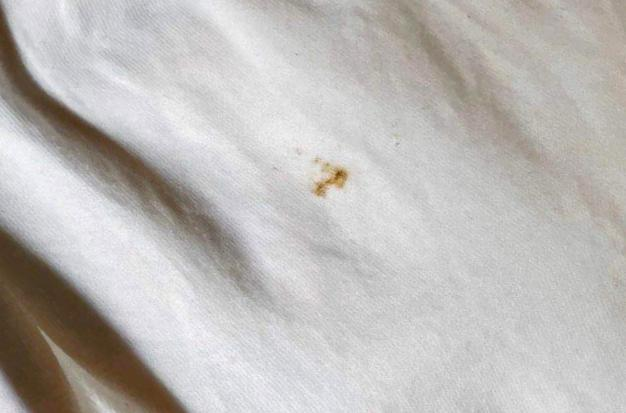snag: (310, 156, 354, 201)
